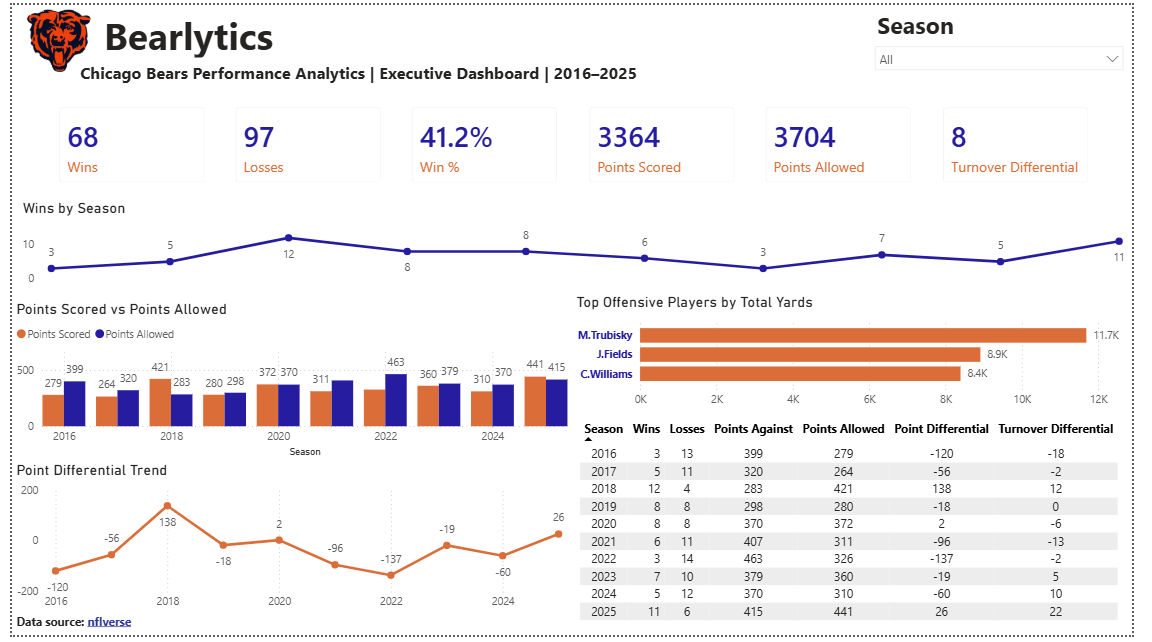

This screenshot's page, from the dashboard's own definition file:
{"tool":"powerbi","page":{"name":"Executive Summary","canvas":[1280,720],"ordinal":0},"visuals":[{"type":"textbox","box":[100,0,220,90],"z":0},{"type":"image","box":[0,0,106.7,81.7],"z":1000},{"type":"slicer","fields":{"Values":["Dim Season.Season"]},"box":[975.7,0,304.3,100],"z":2000},{"type":"cardVisual","fields":{"Data":["Measuress.Total Wins"]},"box":[36.7,100.7,200,120],"z":3000},{"type":"cardVisual","fields":{"Data":["Measuress.Total Losses"]},"box":[238.7,100.7,200,120],"z":4000},{"type":"cardVisual","fields":{"Data":["Measuress.Win Percentage"]},"box":[440.7,100.7,200,120],"z":5000},{"type":"cardVisual","fields":{"Data":["Measuress.Total Points For"]},"box":[642.7,100.7,200,120],"z":6000},{"type":"cardVisual","fields":{"Data":["Measuress.Total Points Against"]},"box":[844.7,100.7,200,120],"z":7000},{"type":"cardVisual","fields":{"Data":["Measuress.Turnover Differential"]},"box":[1046.7,100.7,200,120],"z":8000},{"type":"lineChart","title":"Wins by Season","fields":{"Category":["Dim Season.Season"],"Y":["Sum(Fact Team Stats.Wins)"]},"box":[6.7,221.1,1273.3,105.6],"z":9000},{"type":"clusteredColumnChart","title":"Points Scored vs Points Allowed","fields":{"Category":["Dim Season.Season"],"Y":["Sum(Fact Team Stats.Points_For)","Sum(Fact Team Stats.Points_Against)"]},"box":[0,337.1,640,184.3],"z":10000},{"type":"lineChart","title":"Point Differential Trend","fields":{"Category":["Dim Season.Season"],"Y":["Sum(Fact Team Stats.Point_Differential)"]},"box":[0,521.4,642.9,178.6],"z":11000},{"type":"barChart","title":"Top Offensive Players by Total Yards","fields":{"Category":["Fact Player Stats.Player_Name"],"Y":["Measuress.Total Player Yards"]},"box":[640,328.6,640,140],"z":12000},{"type":"tableEx","fields":{"Values":["Dim Season.Season","Sum(Fact Team Stats.Wins)","Measuress.Total Losses","Sum(Fact Game Logs.Points_Against)","Sum(Fact Game Logs.Points_For)","Sum(Fact Game Logs.Point_Differential)","Sum(Fact Team Stats.Turnover_Differential)"]},"box":[642.9,468.6,637.1,251.4],"z":13000},{"type":"textbox","box":[73.3,60,681.7,36.7],"z":14000},{"type":"textbox","box":[0,690,158.6,30],"z":14001}]}

Visuals, with their boxes in screenshot pixels (x1, y1, x2, y2), scaled from the page's 1280x720 canvas onto the 1152x642 screenshot:
textbox: x1=90 y1=0 x2=288 y2=80
image: x1=0 y1=0 x2=96 y2=73
slicer - Dim Season.Season: x1=878 y1=0 x2=1151 y2=89
cardVisual - Measuress.Total Wins: x1=33 y1=90 x2=213 y2=197
cardVisual - Measuress.Total Losses: x1=215 y1=90 x2=395 y2=197
cardVisual - Measuress.Win Percentage: x1=397 y1=90 x2=577 y2=197
cardVisual - Measuress.Total Points For: x1=578 y1=90 x2=758 y2=197
cardVisual - Measuress.Total Points Against: x1=760 y1=90 x2=940 y2=197
cardVisual - Measuress.Turnover Differential: x1=942 y1=90 x2=1122 y2=197
"Wins by Season" lineChart: x1=6 y1=197 x2=1151 y2=291
"Points Scored vs Points Allowed" clusteredColumnChart: x1=0 y1=301 x2=576 y2=465
"Point Differential Trend" lineChart: x1=0 y1=465 x2=579 y2=624
"Top Offensive Players by Total Yards" barChart: x1=576 y1=293 x2=1151 y2=418
tableEx - Dim Season.Season x Sum(Fact Team Stats.Wins): x1=579 y1=418 x2=1151 y2=641
textbox: x1=66 y1=54 x2=680 y2=86
textbox: x1=0 y1=615 x2=143 y2=641
